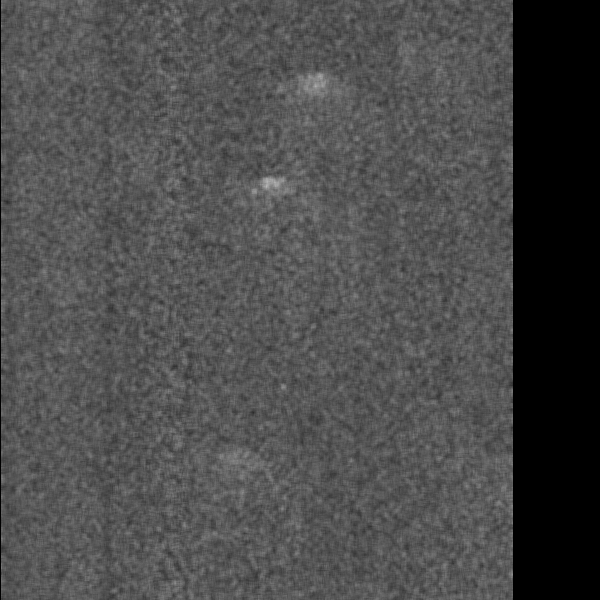spark: (254, 172, 296, 215), (213, 446, 239, 489), (305, 69, 327, 106)
